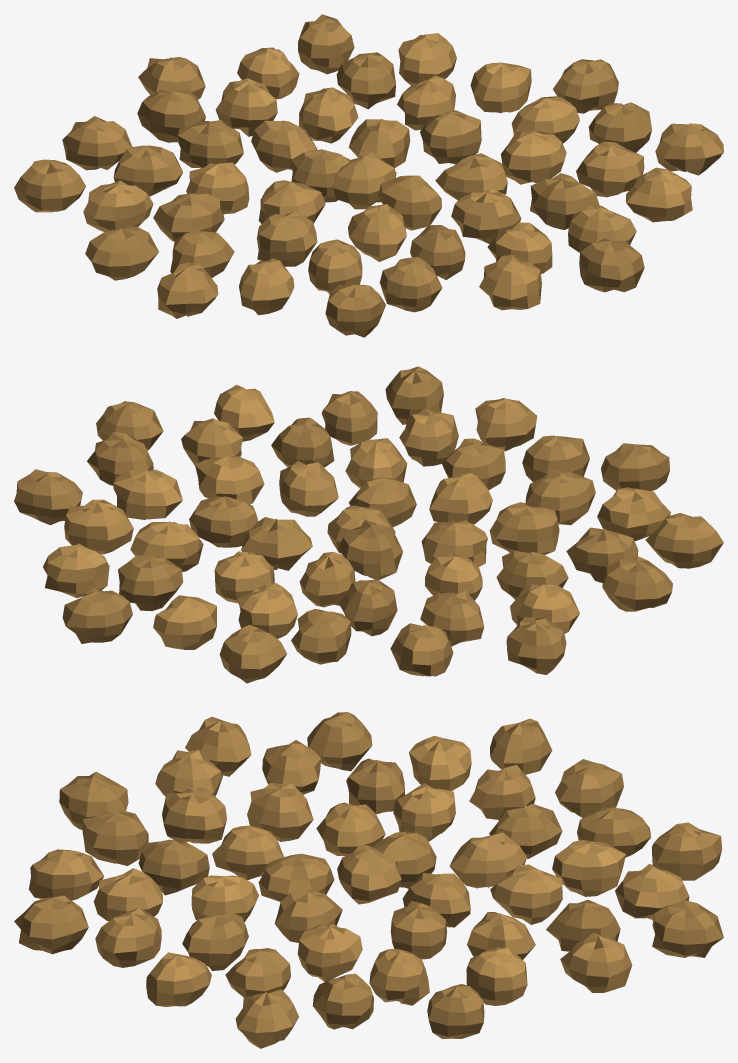
File: Bulgur.glb
3 renders of one model, top to bottom at view 1: azimuth 30°, elevation 25°; view 2: azimuth 150°, elevation 25°; view 3: azimuth 270°, elevation 25°, orthographic. The views are drawn at different scales.
Visible parts, largest first — view 1: Bulgur; view 2: Bulgur; view 3: Bulgur.
Part boxes in pixels (box(x1,y1,x2,y2)): Bulgur: box(14, 14, 723, 337); Bulgur: box(14, 366, 723, 683); Bulgur: box(14, 712, 723, 1048).
Size of what is drawn, in the model's own units: 0.0178 by 0.00146 by 0.0173.
